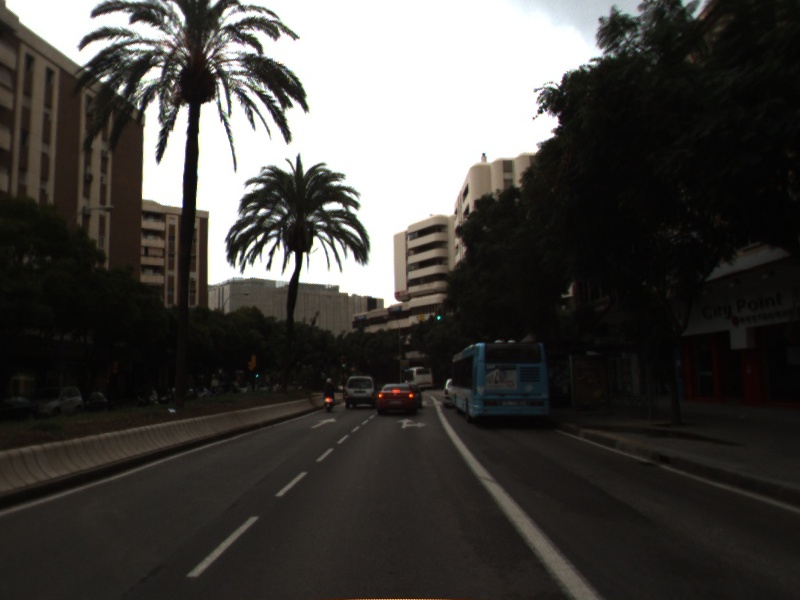STRAIGHT: (308, 416, 338, 431)
STRAIGHT_RIGHT: (394, 416, 429, 430)
